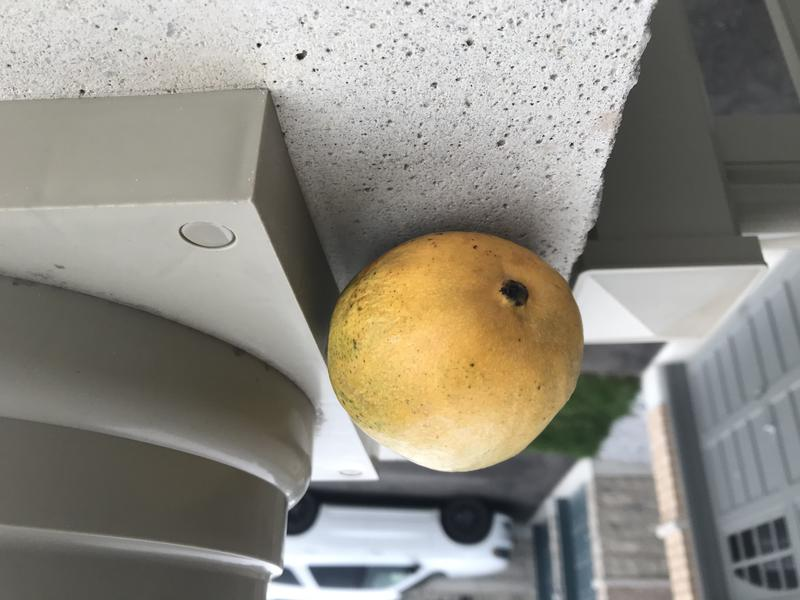mango: (320, 223, 594, 484)
